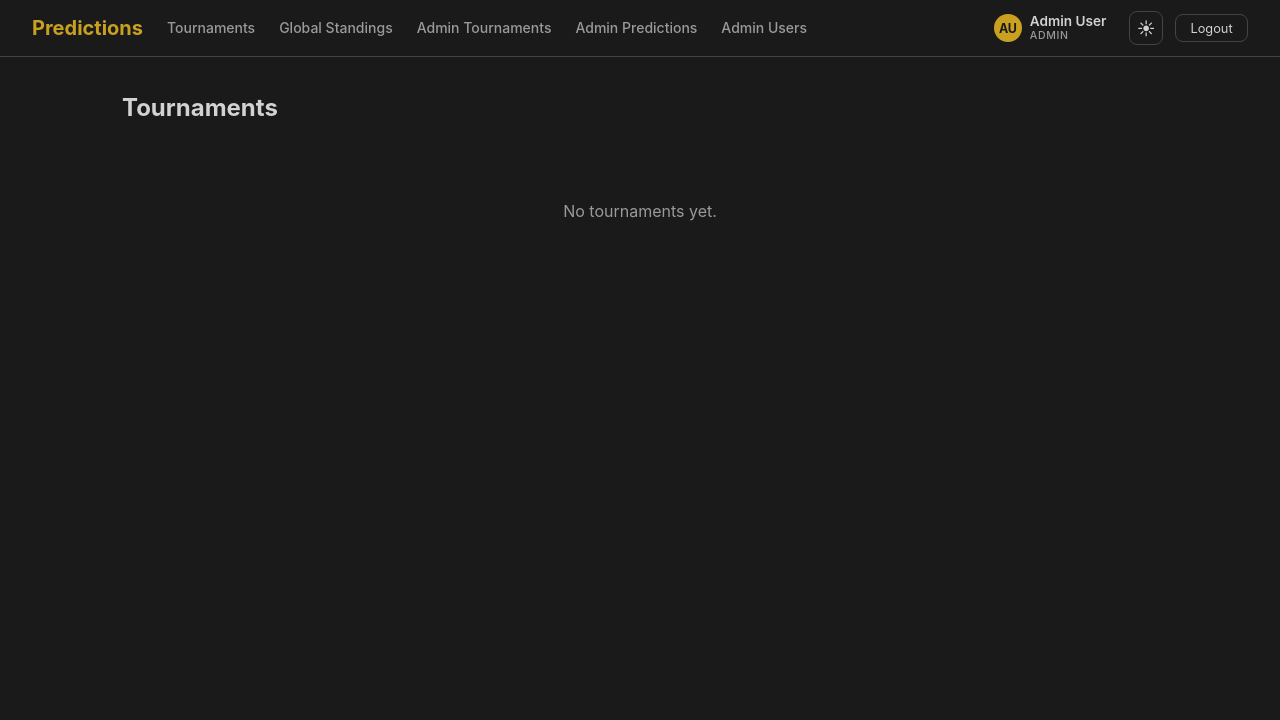
Test: Account drawer › saves username and refreshes the visible navbar name
Click the button "AU Admin User Admin" at [1052, 28], box [987, 9, 1117, 47]
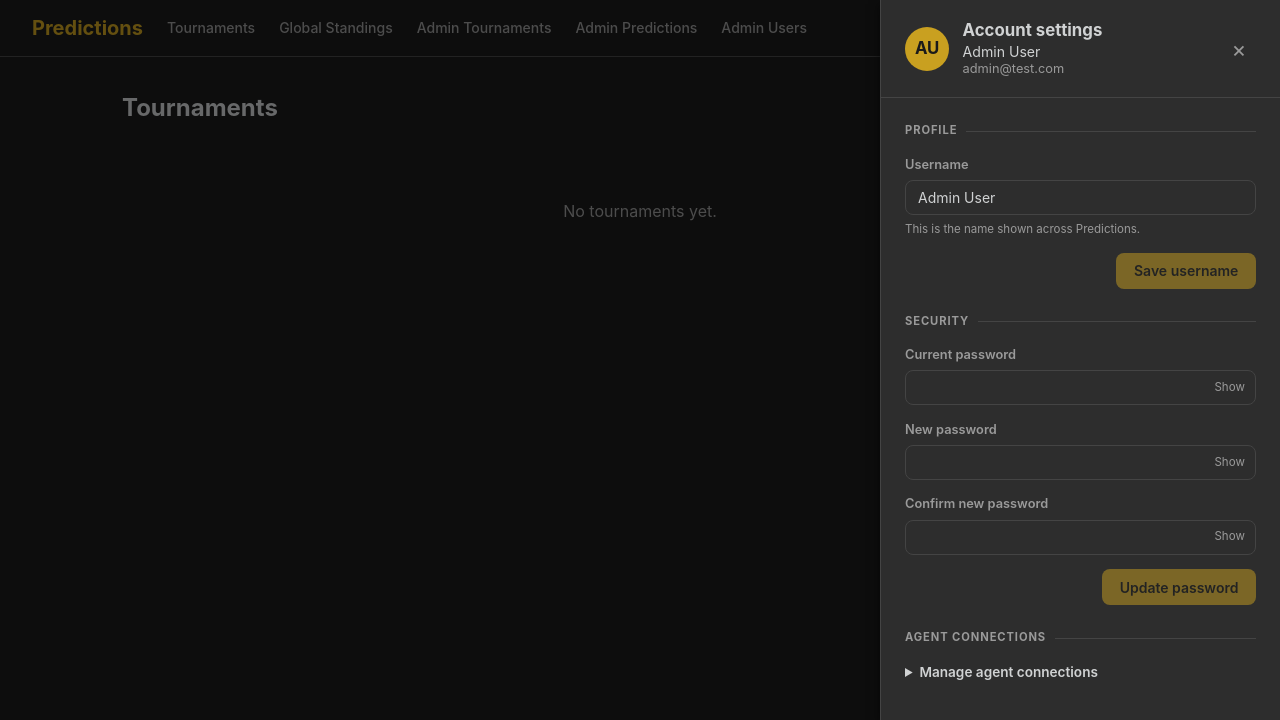
Replace the text in the field labelled "Username" with "Dimitar" at [1081, 198], box [905, 180, 1256, 215]
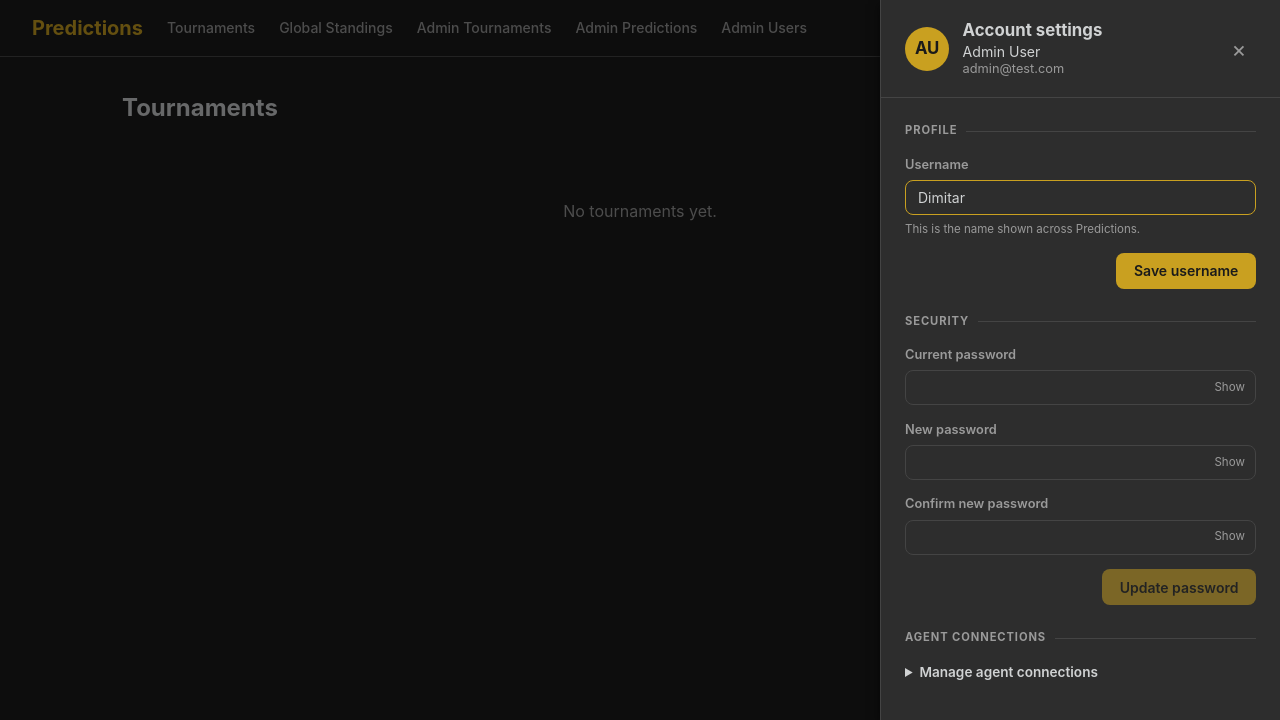
Click the button "Save username" at [1186, 271], box [1116, 253, 1256, 289]
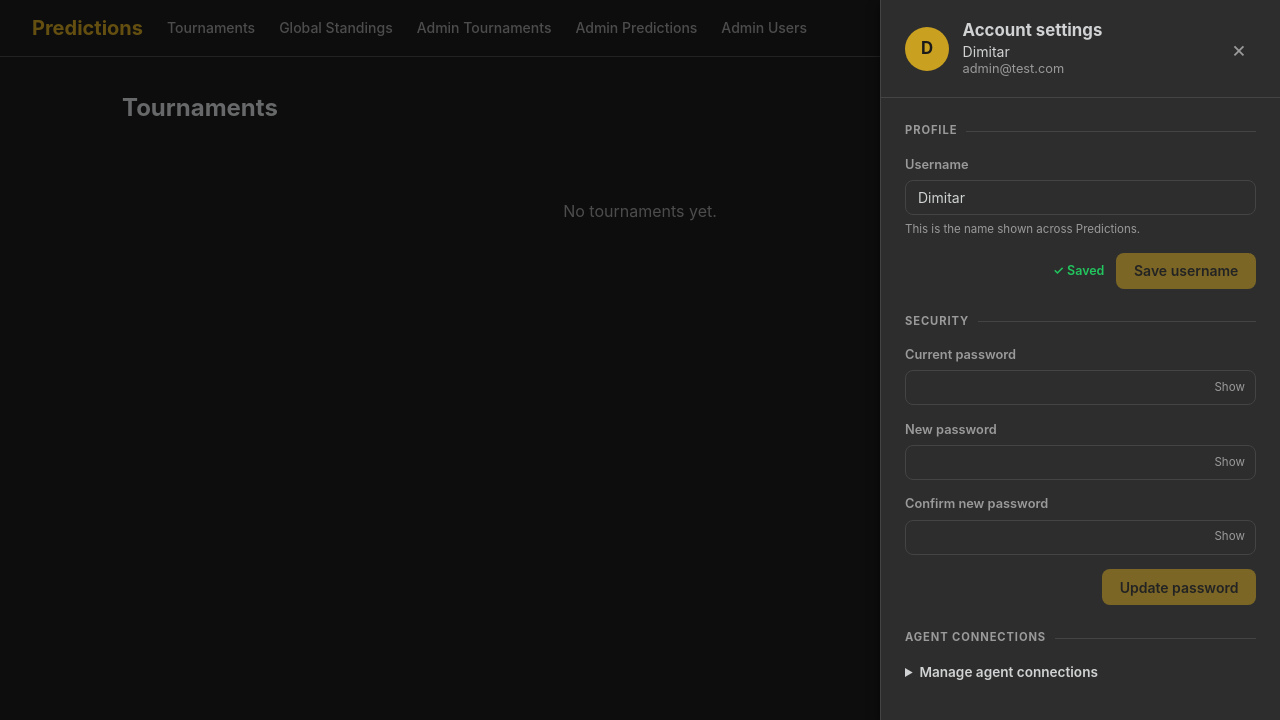
Expected: the text "✓ Saved" is shown, [1053, 261, 1104, 281]
